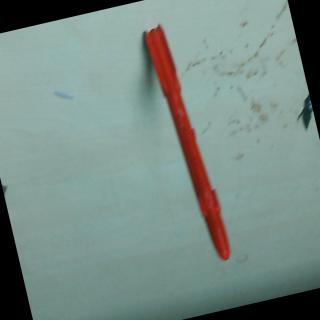Rocket: (140, 19, 234, 268)
